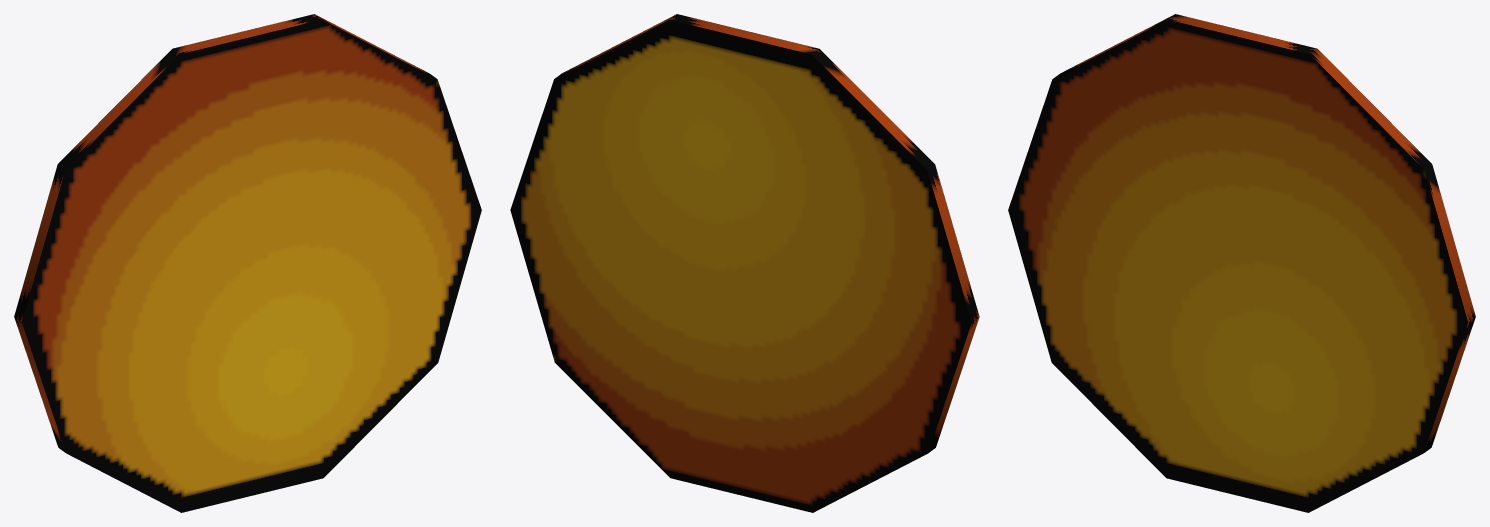
File: Sun.FBX
3 views of the same model, side by side, from view 1: azimuth 30°, elevation 25°; view 2: azimuth 150°, elevation 25°; view 3: azimuth 330°, elevation 25° (orthographic).
Parts seen in each view (by area): view 1: Cylinder001; view 2: Cylinder001; view 3: Cylinder001.
Part boxes in pixels (x1,y1,x2,y2): Cylinder001: (14,14,481,512); Cylinder001: (510,14,979,512); Cylinder001: (1008,14,1475,512).
Size of the model in its own units: 97.59 by 92.83 by 3.32.
1 material, 1 textured.
